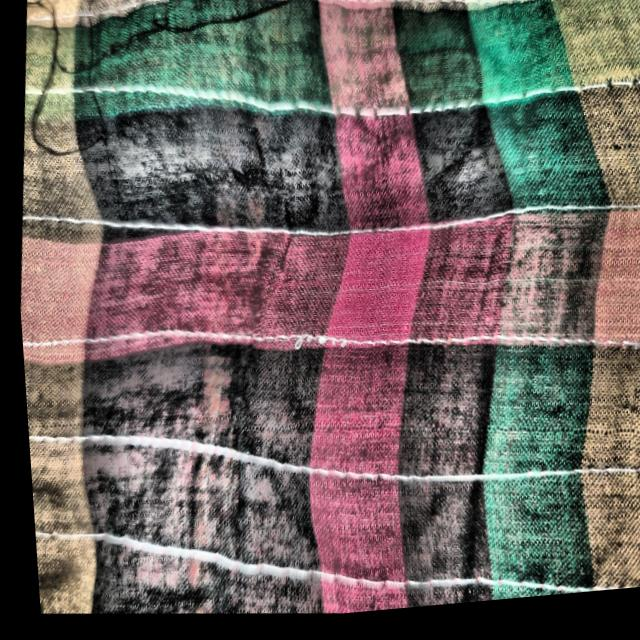Stitch: (12, 0, 301, 188)
